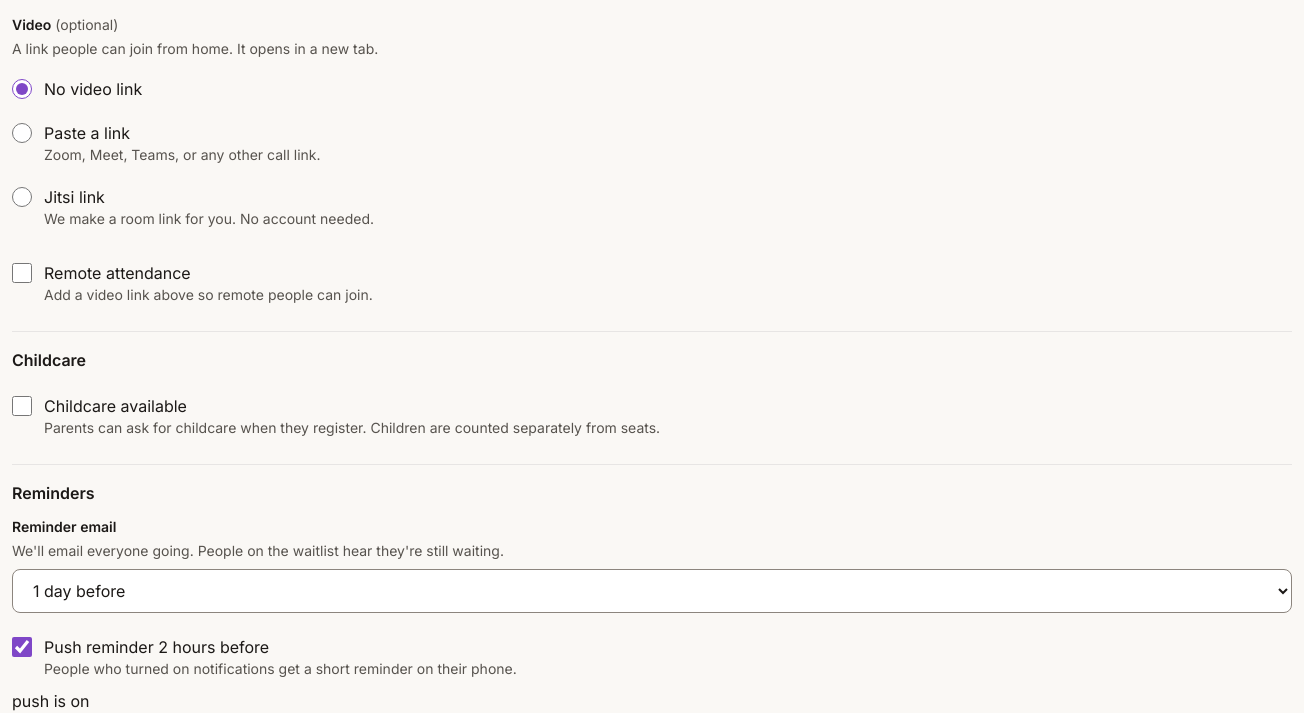
Test: the push reminder switch (M3.13d3) › sits under the reminder email, on by default, and says who gets it
(page scrolled)
What coordinates should you click on to do the following:
click the checkbox labelled "Push reminder 2 hours before"
I would click on:
 (22, 647)
Its box is left=12, top=637, right=32, bottom=657.
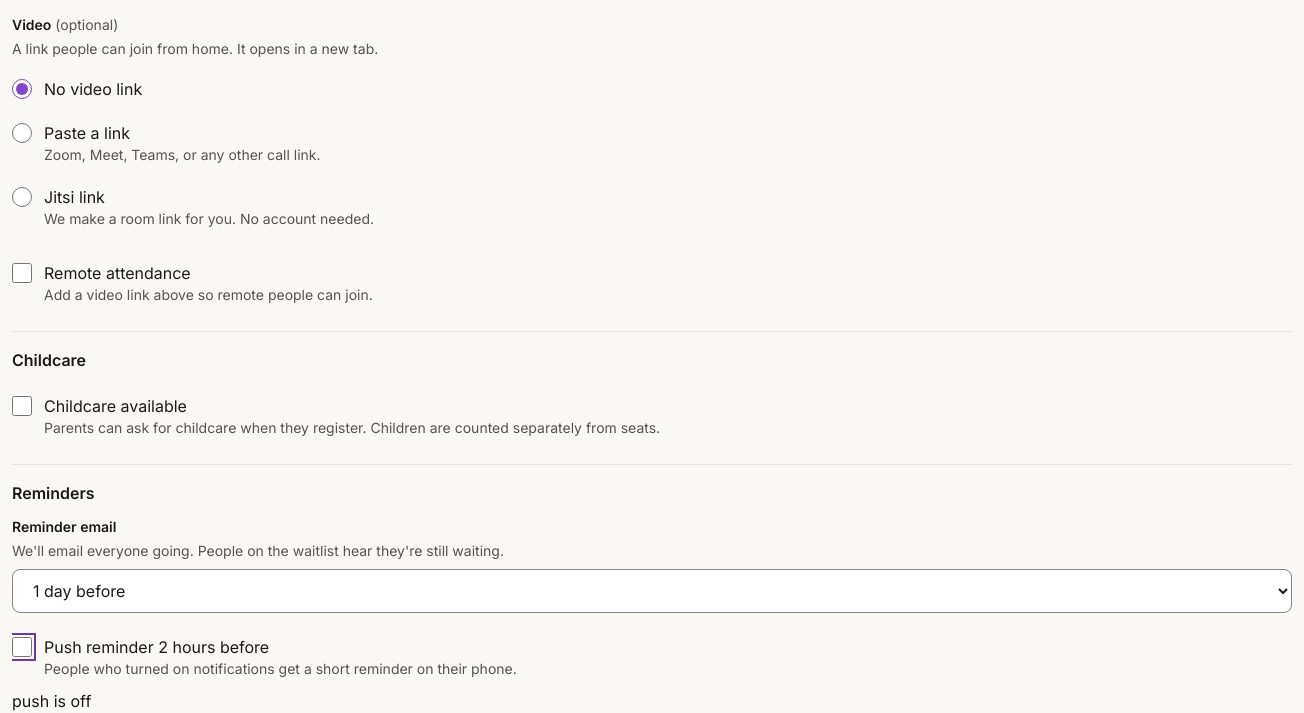
Expected: the text "push is off" is shown, left=12, top=691, right=91, bottom=711
